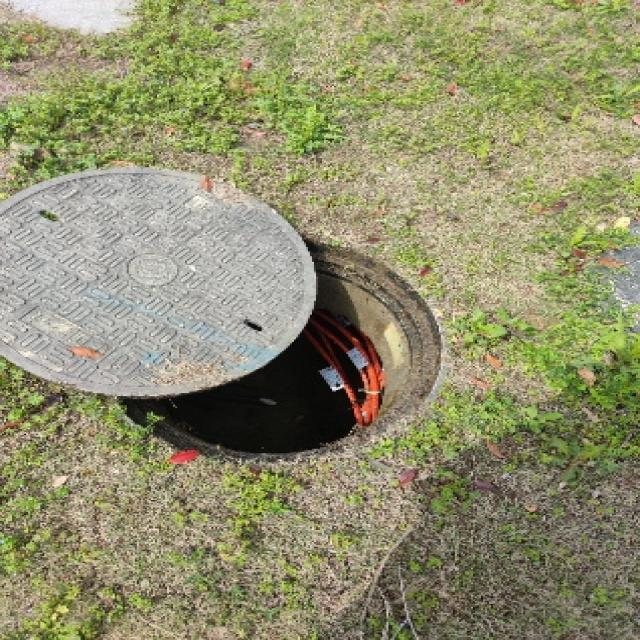Lose: (0, 132, 486, 510)
